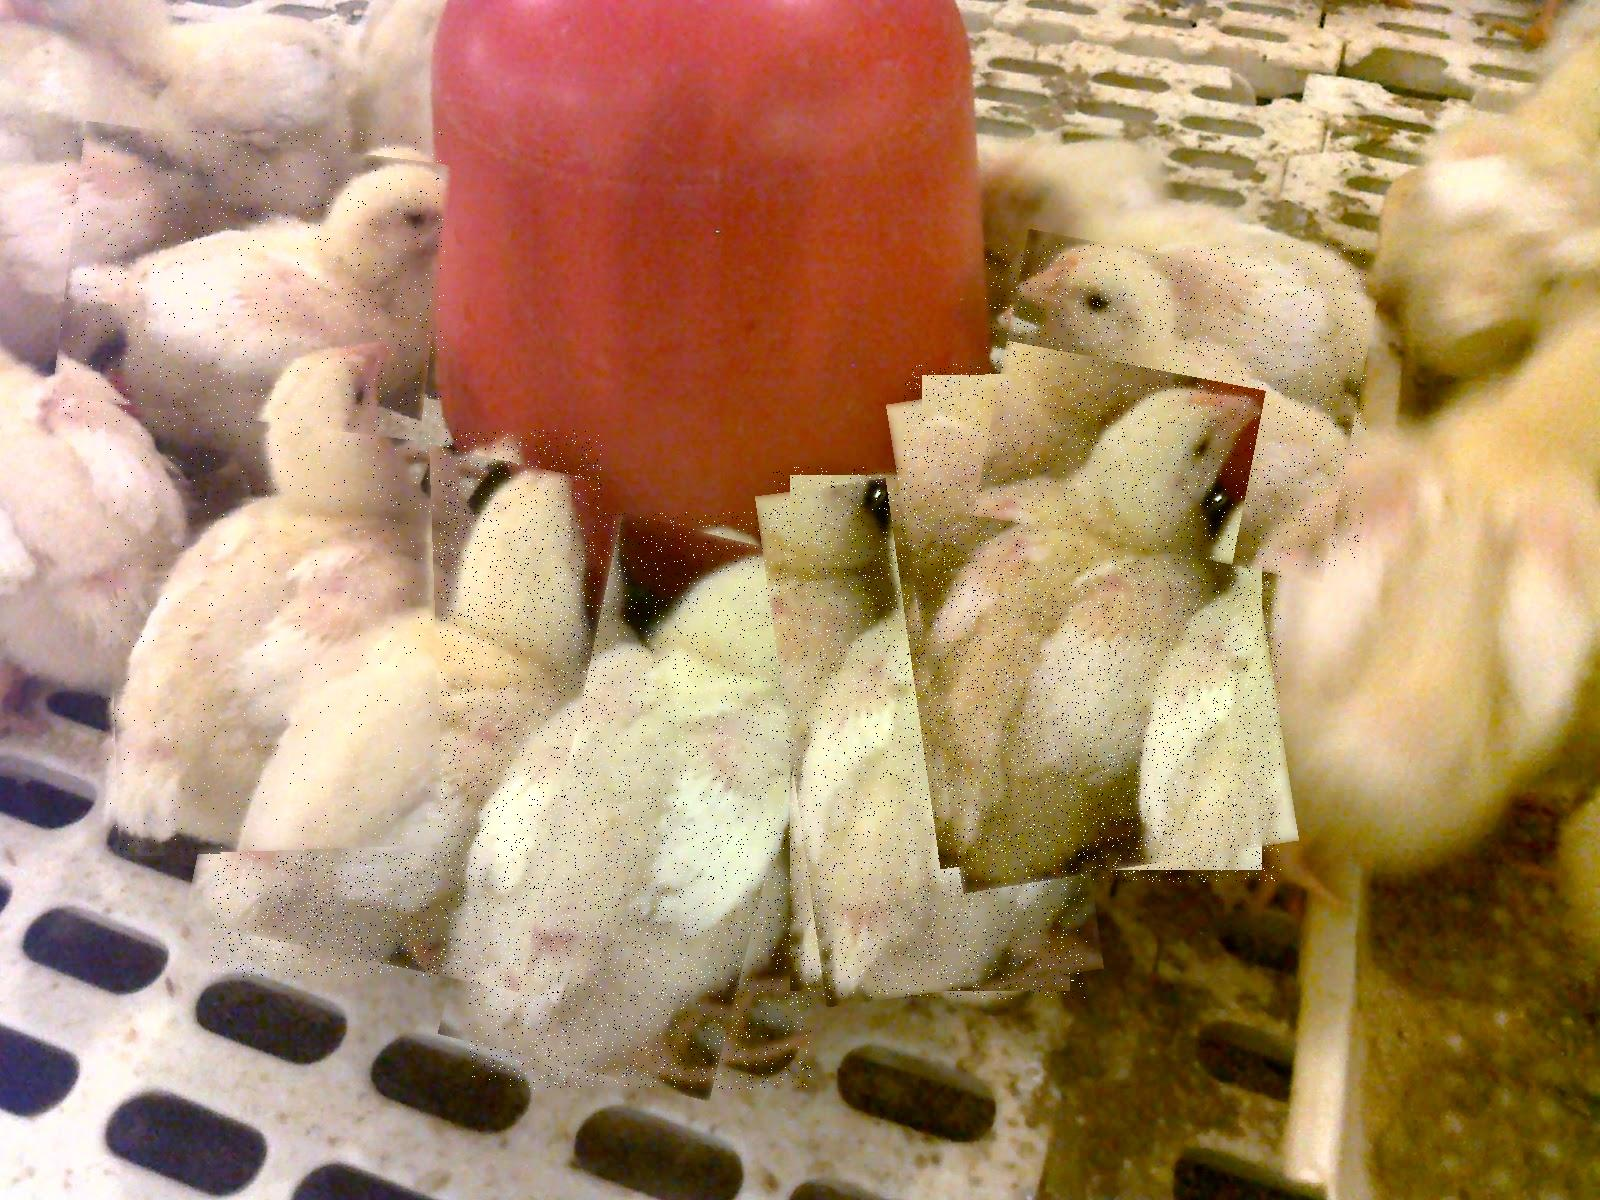chicken: (209, 430, 602, 977), (469, 512, 811, 1089), (905, 363, 1281, 882), (107, 324, 440, 853), (772, 466, 1087, 1000), (985, 245, 1366, 567), (60, 132, 445, 432)
